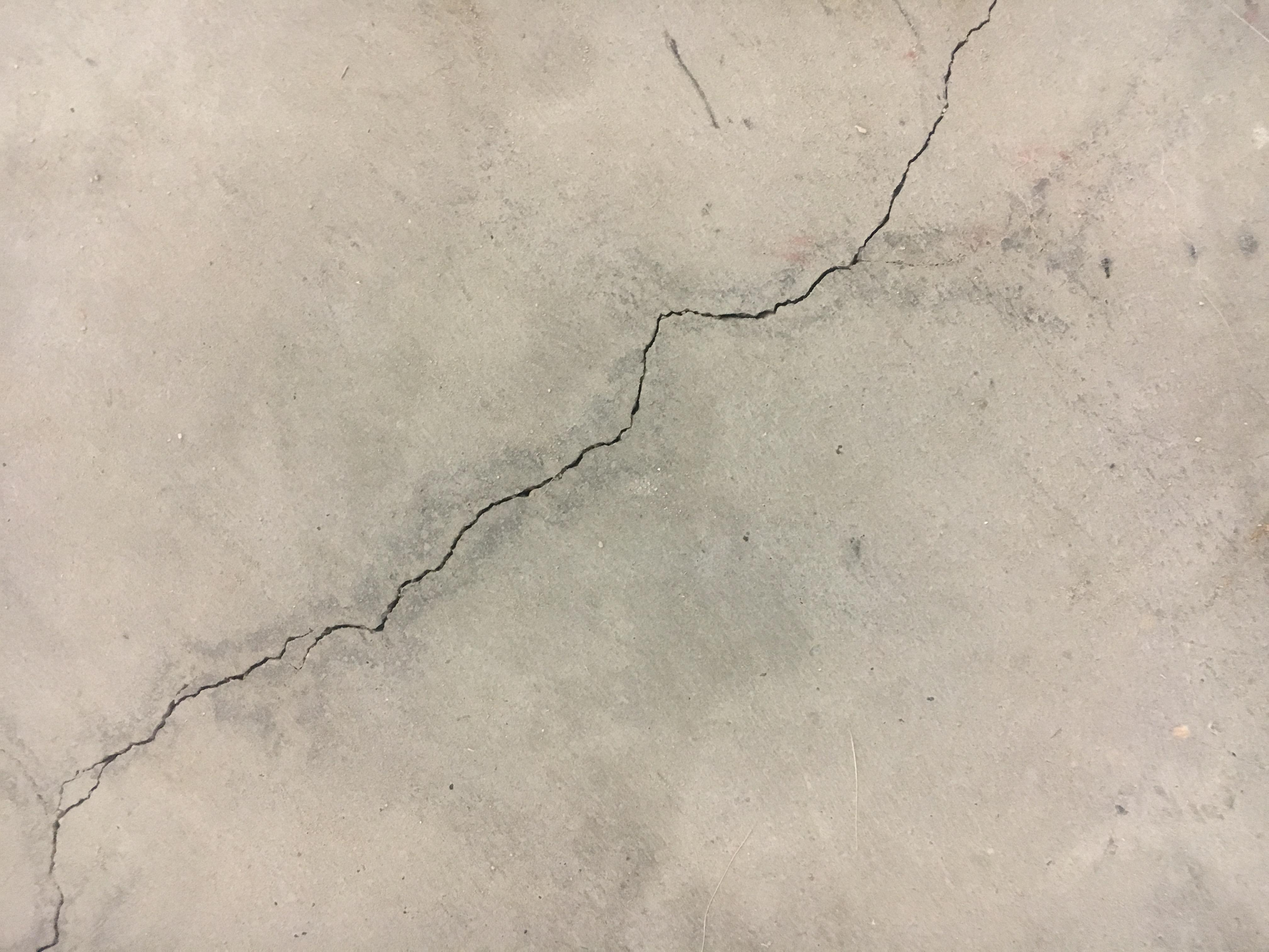Diagonal Crack: (36, 2, 1000, 946)
